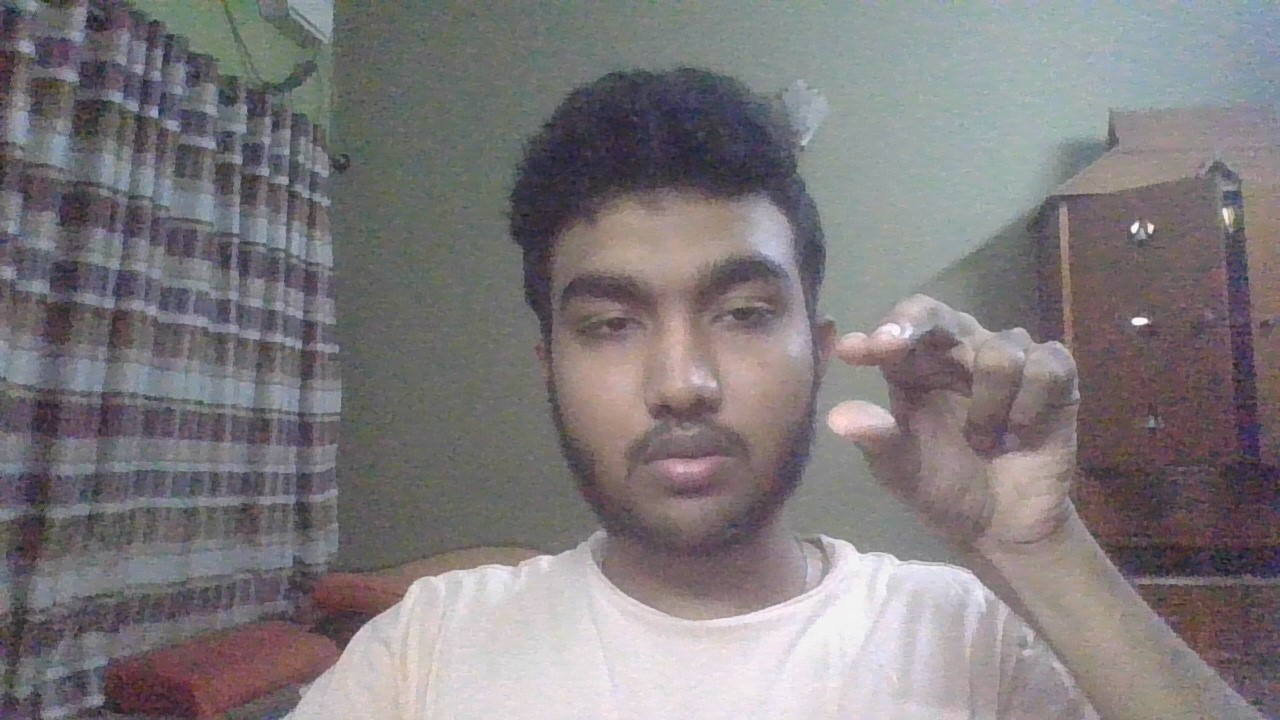No: (826, 283, 1108, 573)
